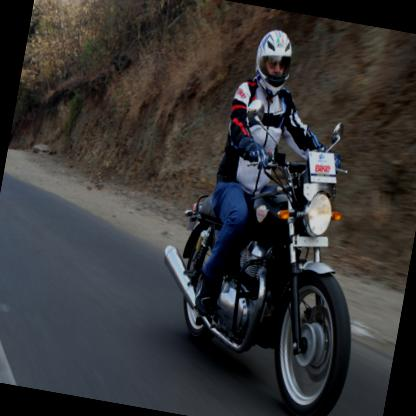motorcycle: (139, 18, 405, 415)
